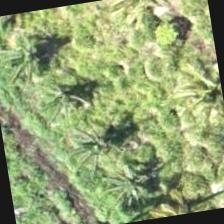Kelapa_Sawit: (147, 39, 223, 140)
